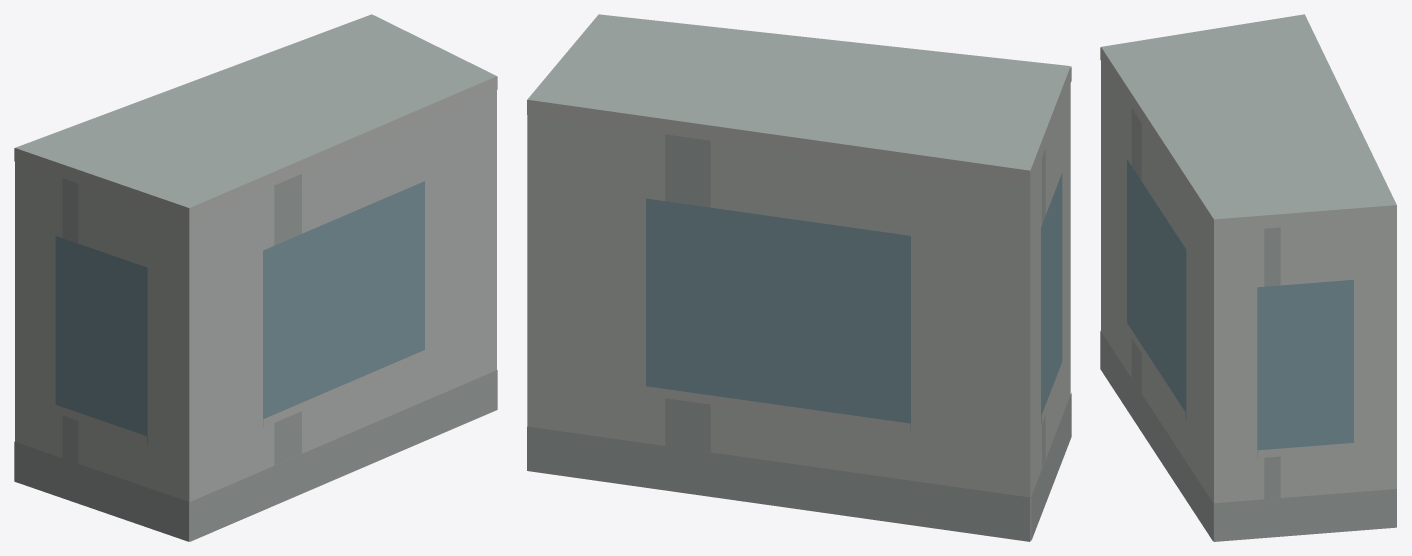
File: residential-502ba244-3a93-44b0-897e-4b9c109a0e28.glb
The picture shows the model from 3 angles, left to right: view 1: azimuth 30°, elevation 25°; view 2: azimuth 150°, elevation 25°; view 3: azimuth 270°, elevation 25°; orthographic projection. The views are drawn at different scales.
Visible parts, largest first — view 1: residential-502ba244-3a93-44b0-897e-4b9c109a0e28.tmp; view 2: residential-502ba244-3a93-44b0-897e-4b9c109a0e28.tmp; view 3: residential-502ba244-3a93-44b0-897e-4b9c109a0e28.tmp.
Part boxes in pixels (x1,y1,x2,y2): residential-502ba244-3a93-44b0-897e-4b9c109a0e28.tmp: (14, 14, 497, 541); residential-502ba244-3a93-44b0-897e-4b9c109a0e28.tmp: (527, 14, 1071, 541); residential-502ba244-3a93-44b0-897e-4b9c109a0e28.tmp: (1100, 14, 1396, 541).
Bounding box in the file's own units: 4.18 × 3.05 × 2.55.
